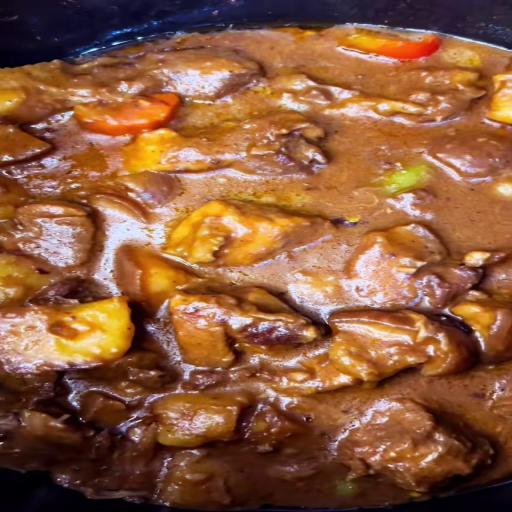pork caldereta: (0, 32, 512, 500)
